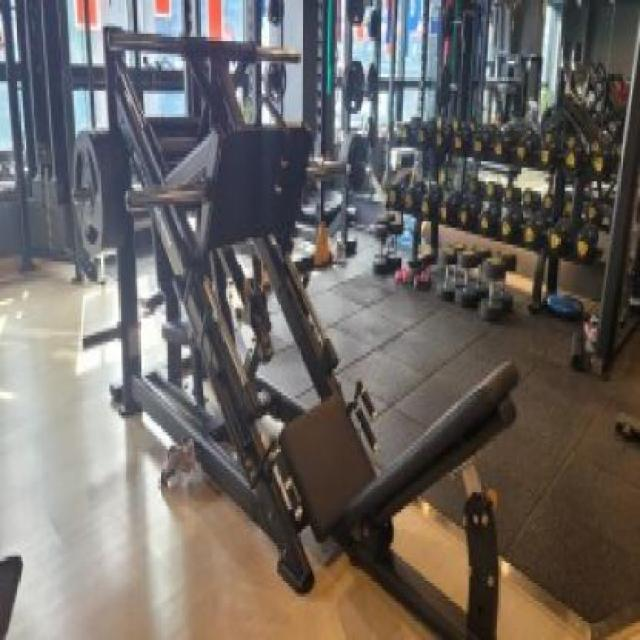leg press: (59, 6, 528, 640)
